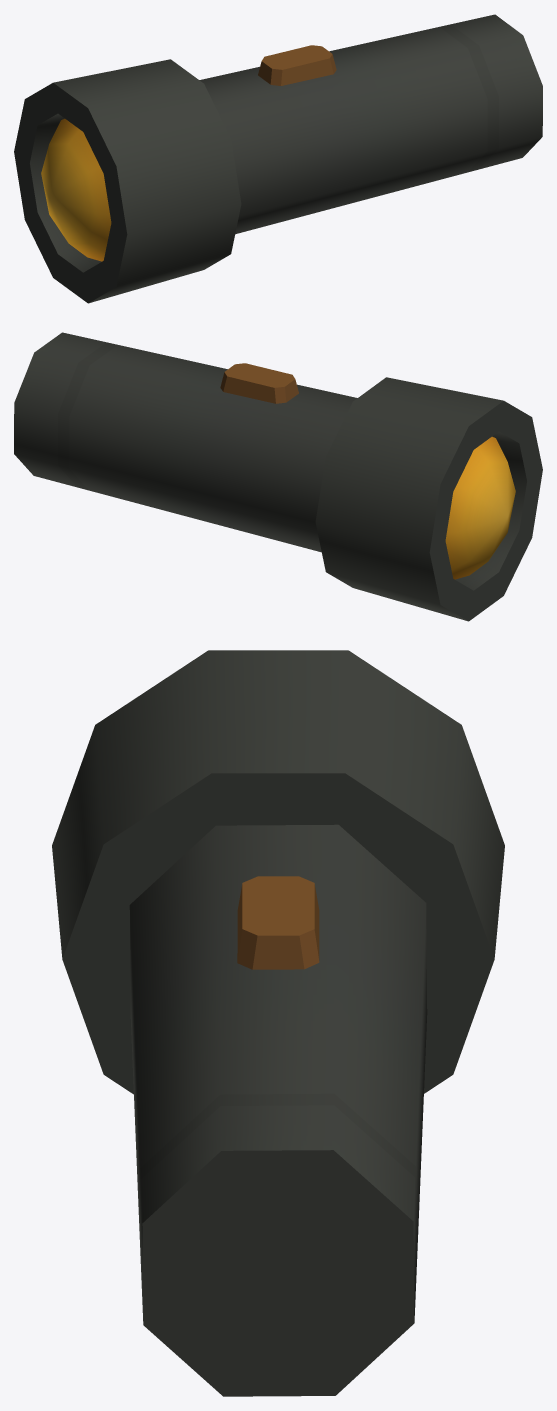
The model's file is SM_Flashlight.fbx.
3 views of the same model, one above another, from view 1: azimuth 30°, elevation 25°; view 2: azimuth 150°, elevation 25°; view 3: azimuth 270°, elevation 25° (orthographic). The views are drawn at different scales.
Parts seen in each view (by area): view 1: SM_Flashlight; view 2: SM_Flashlight; view 3: SM_Flashlight.
Part boxes in pixels (x1=…): SM_Flashlight: x1=14, y1=14, x2=542, y2=303; SM_Flashlight: x1=14, y1=332, x2=542, y2=621; SM_Flashlight: x1=52, y1=650, x2=504, y2=1396.
Size of the model in its own units: 25.92 by 10.52 by 11.06.
